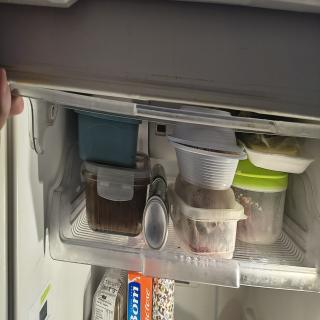beverage: (146, 180, 170, 257), (148, 154, 170, 186)
